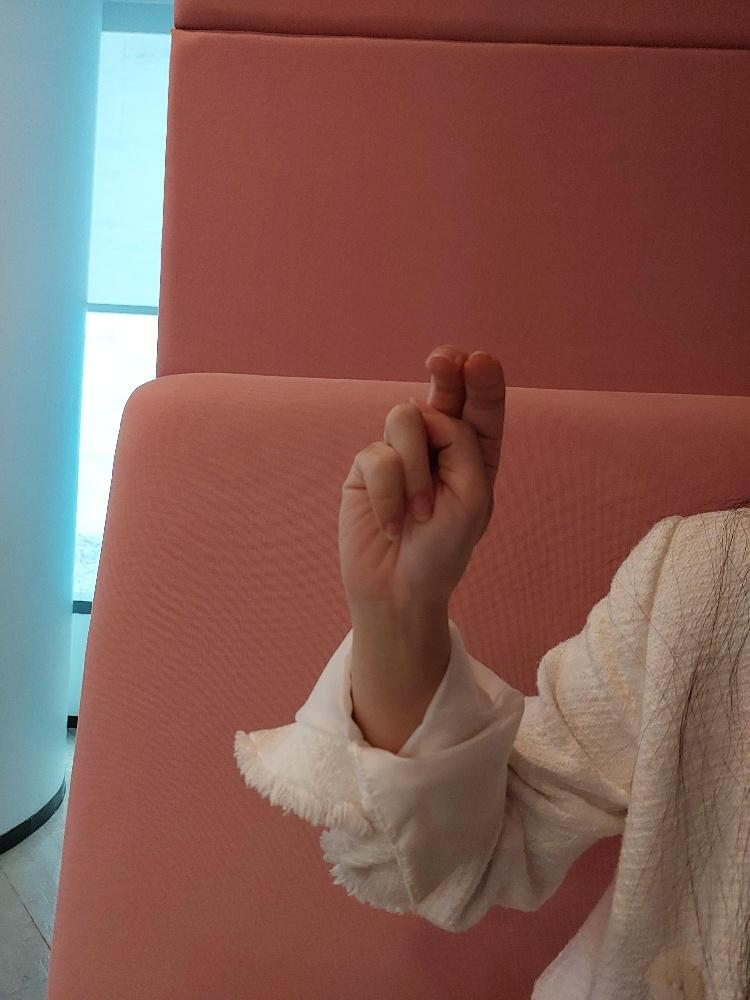n: (334, 342, 506, 591)
